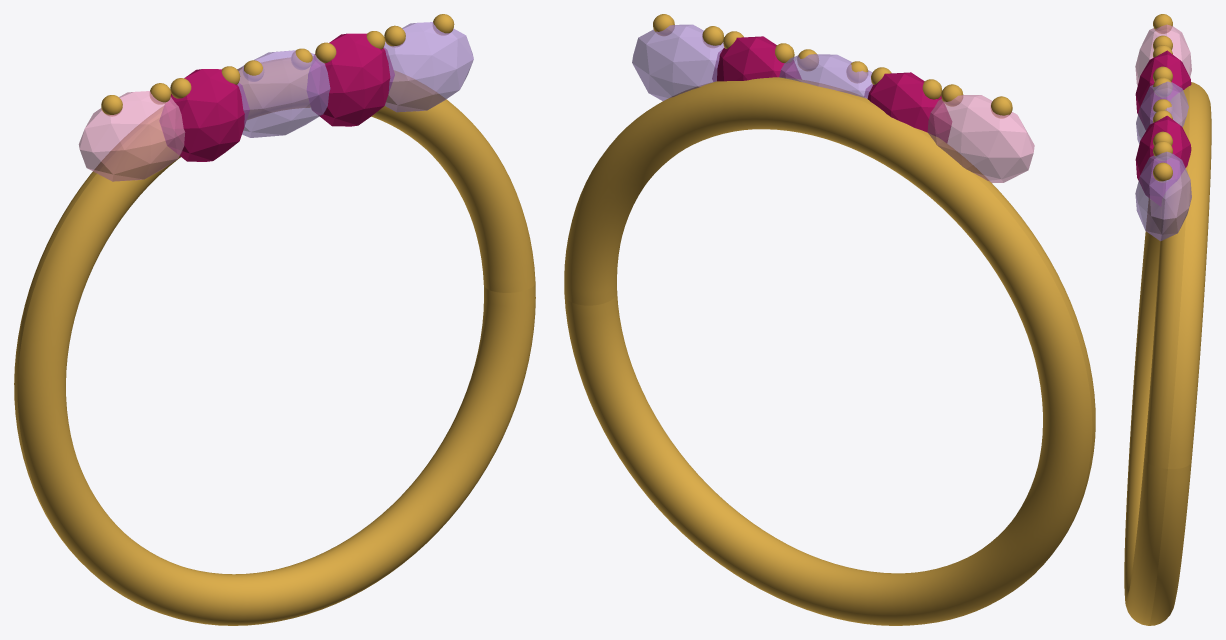
3 views of the same model, side by side, from view 1: azimuth 30°, elevation 25°; view 2: azimuth 150°, elevation 25°; view 3: azimuth 270°, elevation 25° (orthographic). The views are drawn at different scales.
Parts seen in each view (by area): view 1: Anillo Piedras Rosas — reconstrucción visual; view 2: Anillo Piedras Rosas — reconstrucción visual; view 3: Anillo Piedras Rosas — reconstrucción visual.
Boxes of the visible parts, box(x1,y1,x2,y2) form: Anillo Piedras Rosas — reconstrucción visual: box(14, 14, 535, 625); Anillo Piedras Rosas — reconstrucción visual: box(564, 14, 1095, 625); Anillo Piedras Rosas — reconstrucción visual: box(1124, 14, 1211, 625).
Bounding box in the file's own units: 2.98 × 3.09 × 0.4765.
